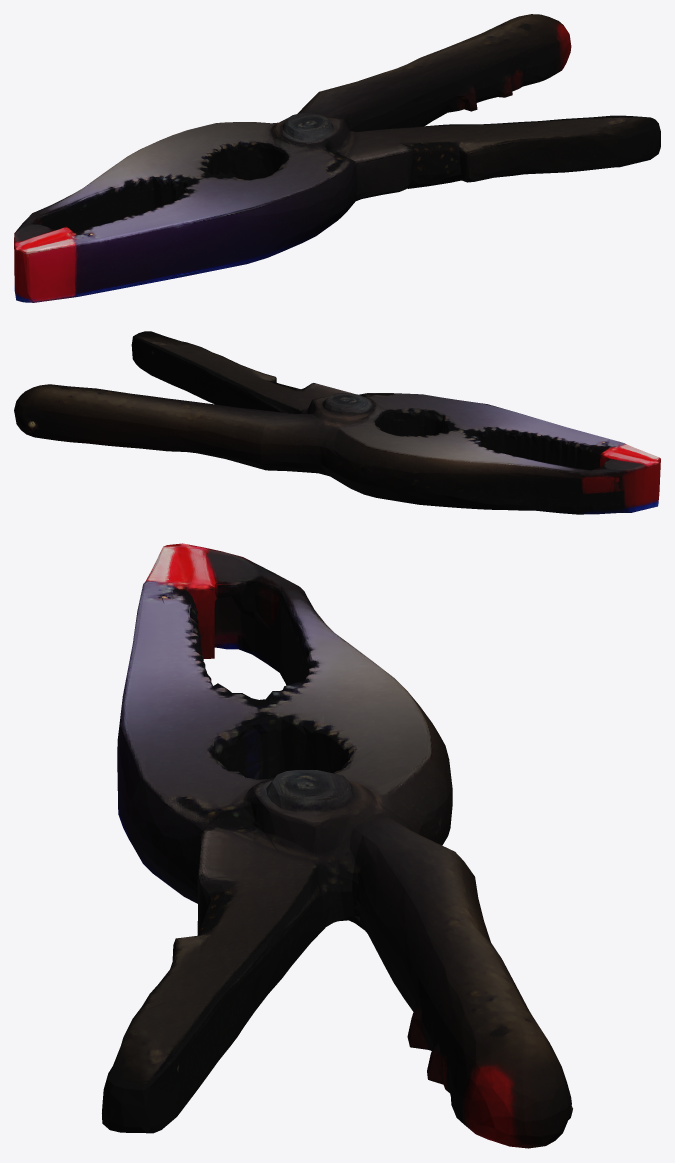
Rendered from sample.glb.
3 views of the same model, one above another, from view 1: azimuth 30°, elevation 25°; view 2: azimuth 150°, elevation 25°; view 3: azimuth 270°, elevation 25° (orthographic). The views are drawn at different scales.
Visible parts, largest first — view 1: world; view 2: world; view 3: world.
Part boxes in pixels (box(x1,y1,x2,y2)): world: box(14, 14, 660, 302); world: box(14, 331, 660, 514); world: box(102, 543, 572, 1148).
Size of the model in its own units: 0.9945 by 0.1116 by 0.3646.
1 material, 1 textured.
